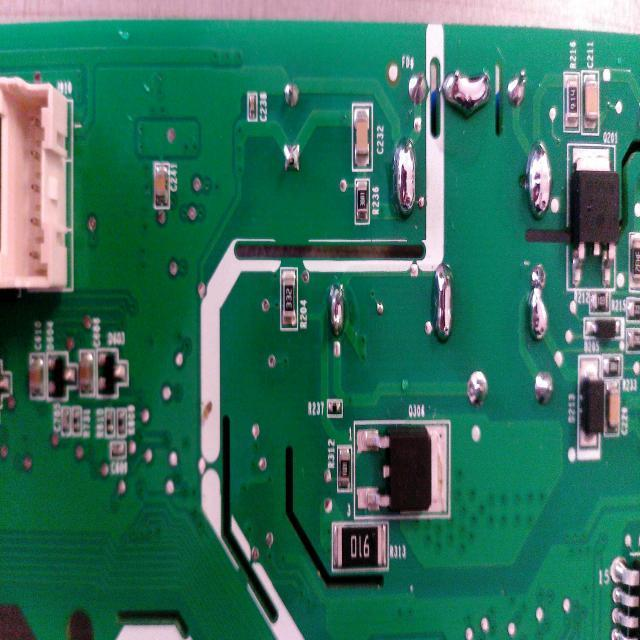Soldering shorted: (440, 64, 496, 122), (524, 136, 554, 229), (392, 132, 418, 228), (526, 260, 550, 348), (433, 260, 454, 346), (327, 278, 347, 337)
